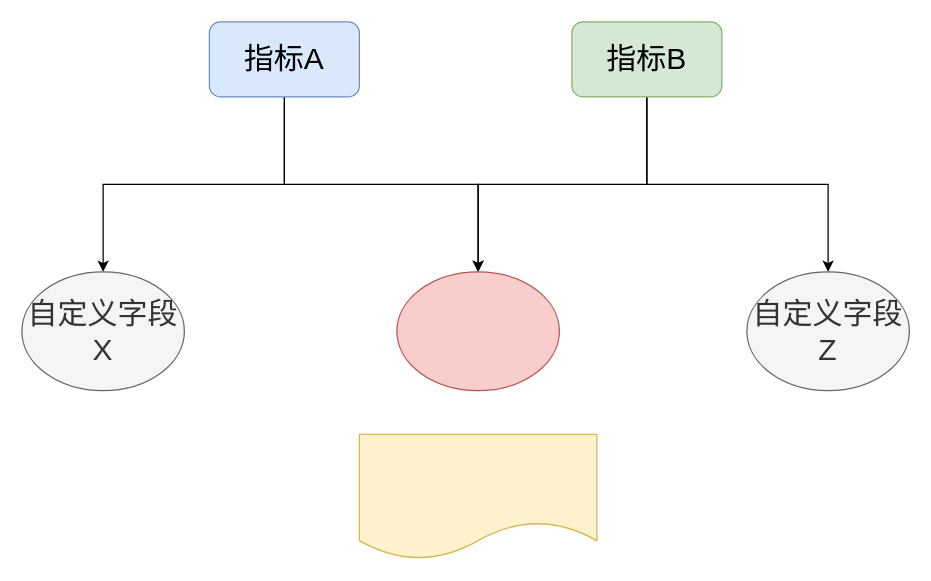
Image size: 931x581. Some labels were removed from this diagram. Each missing label, with the centre of its shape:
指标A和指标B的定义存在重叠: the point at 477,496
自定义字段Y: the point at 477,331
